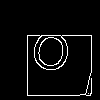O: (27, 29, 74, 83)
